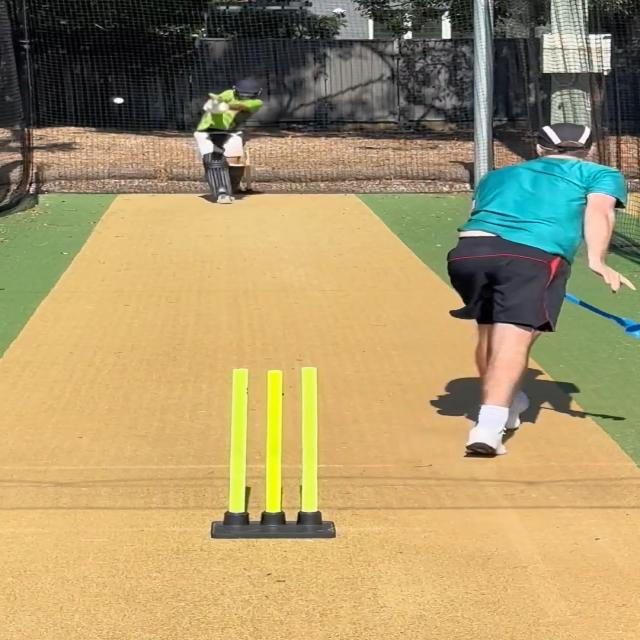ball: (109, 95, 128, 106)
stump: (207, 362, 341, 543)
